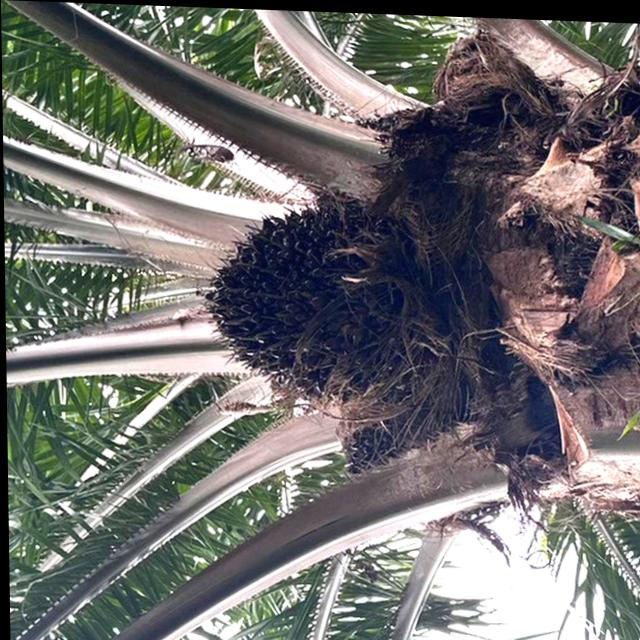ripe: (182, 171, 451, 424)
